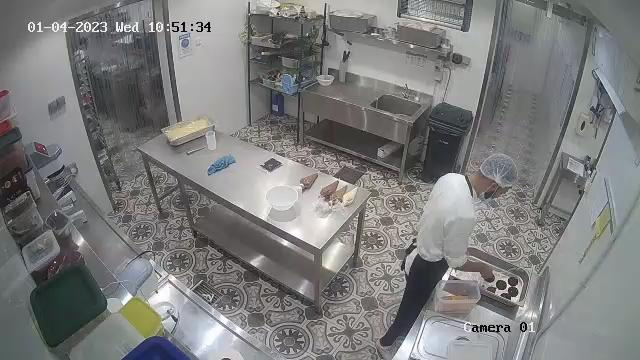apron: (407, 225, 452, 277)
